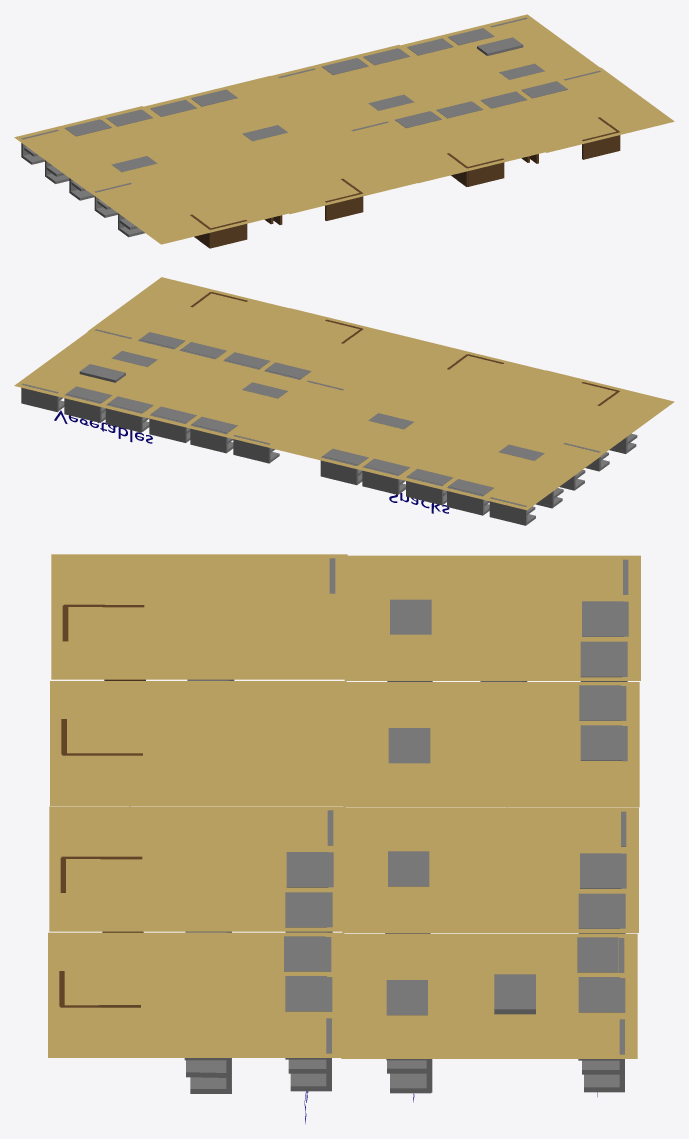
Rendered from store.glb.
3 renders of one model, top to bottom at view 1: azimuth 30°, elevation 25°; view 2: azimuth 150°, elevation 25°; view 3: azimuth 270°, elevation 25°, orthographic. The views are drawn at different scales.
Parts seen in each view (by area): view 1: Plane.004, Plane, Plane.012, Plane.008, Plane.006, Plane.015, Plane.002, Plane.010, Plane.001, Cube.183, Cube.035, Cube.109 (+18 smaller); view 2: Plane.004, Plane, Plane.012, Plane.008, Plane.015, Plane.006, Plane.002, Plane.010, Plane.001, Cube.116, Cube.048, Cube.270 (+26 smaller); view 3: Plane.004, Plane.008, Plane.012, Plane, Plane.002, Plane.015, Plane.006, Plane.010, Plane.001, Cube.333, Cube.114, Cube.226 (+14 smaller).
Part boxes in pixels (x1,y1,x2,y2): Plane.004: [87, 159, 288, 244]; Plane: [217, 129, 417, 213]; Plane.012: [345, 98, 545, 183]; Plane.008: [473, 67, 674, 152]; Plane.006: [14, 106, 214, 190]; Plane.015: [271, 45, 471, 128]; Plane.002: [143, 75, 342, 159]; Plane.010: [400, 14, 599, 98]; Plane.001: [218, 132, 413, 211]; Cube.183: [582, 131, 619, 159]; Cube.035: [325, 192, 362, 220]; Cube.109: [210, 220, 247, 248]; Plane.004: [472, 370, 674, 455]; Plane: [351, 339, 545, 424]; Plane.012: [216, 308, 417, 393]; Plane.008: [87, 277, 288, 362]; Plane.015: [142, 362, 343, 447]; Plane.006: [399, 425, 600, 510]; Plane.002: [271, 394, 471, 479]; Plane.010: [14, 331, 215, 417]; Plane.001: [344, 342, 480, 420]; Cube.116: [489, 497, 527, 525]; Cube.048: [320, 456, 358, 484]; Cube.270: [190, 424, 227, 453]; Plane.004: [51, 554, 347, 679]; Plane.008: [48, 932, 344, 1057]; Plane.012: [49, 806, 345, 931]; Plane: [50, 681, 346, 805]; Plane.002: [343, 682, 639, 807]; Plane.015: [342, 807, 638, 932]; Plane.006: [344, 555, 640, 680]; Plane.010: [341, 933, 637, 1058]; Plane.001: [50, 681, 346, 793]; Cube.333: [494, 974, 535, 1014]; Cube.114: [580, 641, 622, 681]; Cube.226: [285, 892, 326, 932].
Size of the model in its own units: 85.58 by 6.45 by 42.85.
